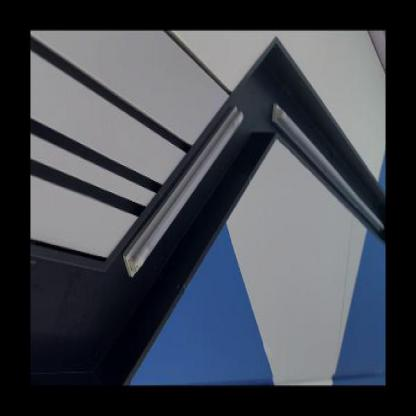light_off: (118, 89, 249, 281), (267, 87, 384, 258)
